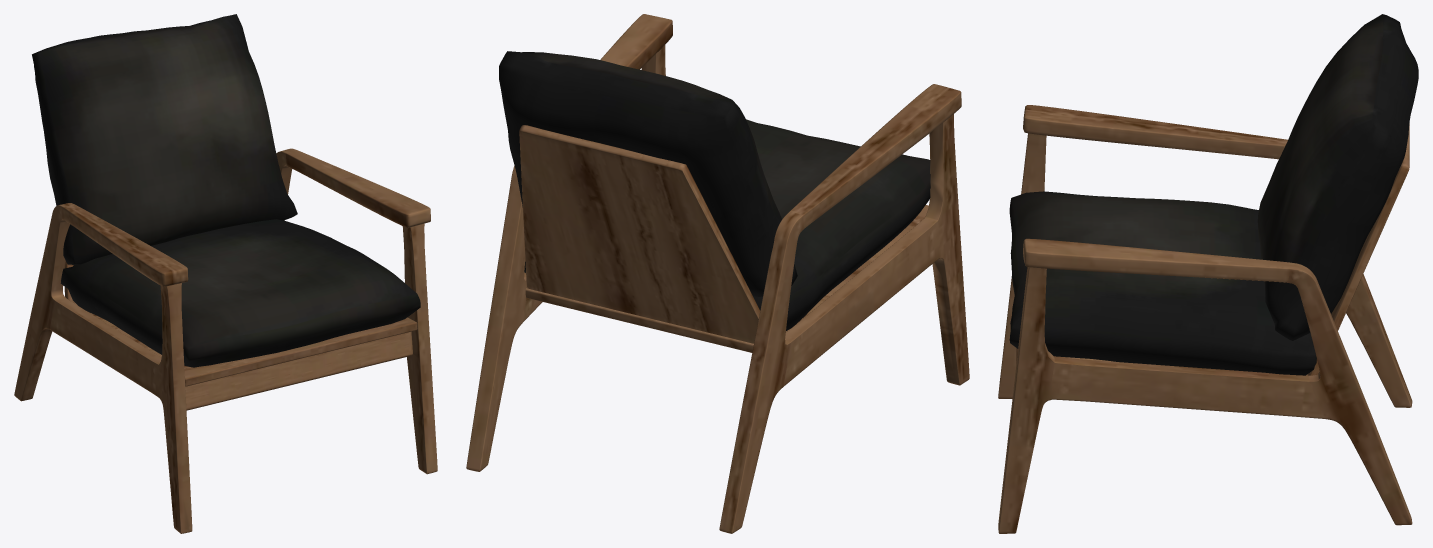
Rendered from modern_arm_chair_01.glb.
3 renders of one model, left to right at view 1: azimuth 30°, elevation 25°; view 2: azimuth 150°, elevation 25°; view 3: azimuth 270°, elevation 25°, orthographic. The views are drawn at different scales.
Visible parts, largest first — view 1: modern_arm_chair_01; view 2: modern_arm_chair_01; view 3: modern_arm_chair_01.
Boxes of the visible parts, box(x1,y1,x2,y2) form: modern_arm_chair_01: box(14, 14, 437, 533); modern_arm_chair_01: box(466, 14, 969, 533); modern_arm_chair_01: box(998, 14, 1418, 533).
Bounding box in the file's own units: 0.8203 × 1.02 × 0.9865.
Materials: 2 (2 with a texture image).
